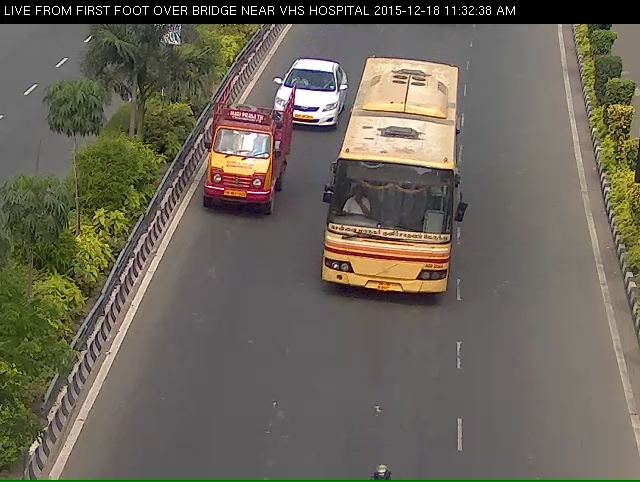Auto: (197, 100, 284, 238)
Bus: (342, 62, 491, 331)
Car: (270, 74, 337, 138)
